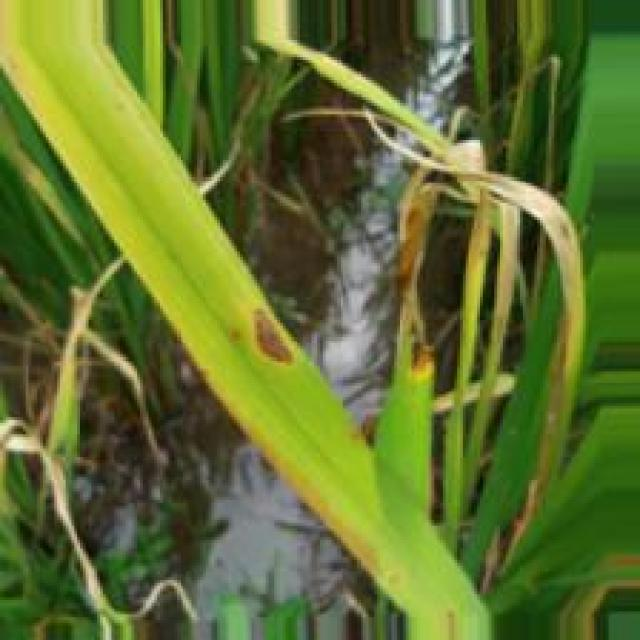Brown_Spot: (396, 191, 427, 375), (246, 299, 308, 368)
